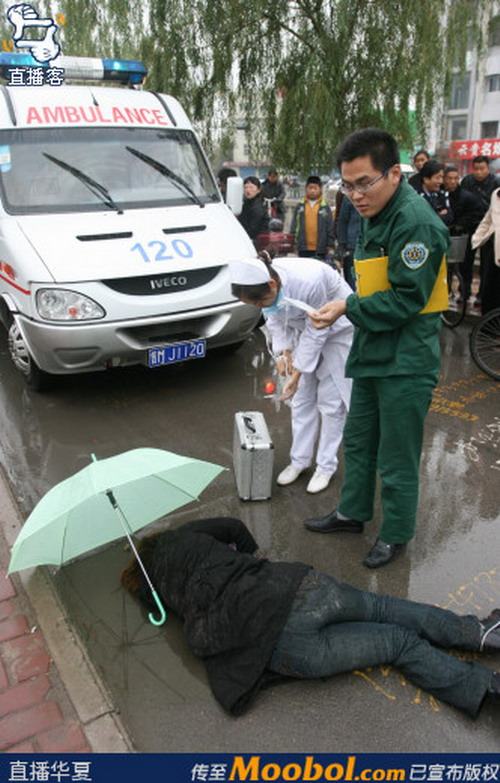10+: (193, 127, 500, 564)
down: (95, 486, 500, 739)
